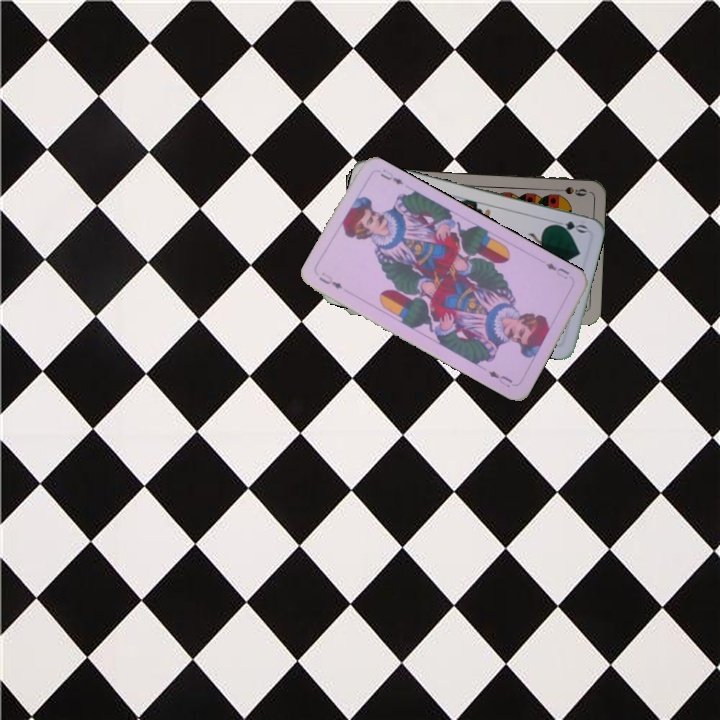EU: (315, 268, 345, 292), (542, 259, 572, 282)
GO: (548, 216, 589, 236)
S9: (549, 183, 589, 198)
